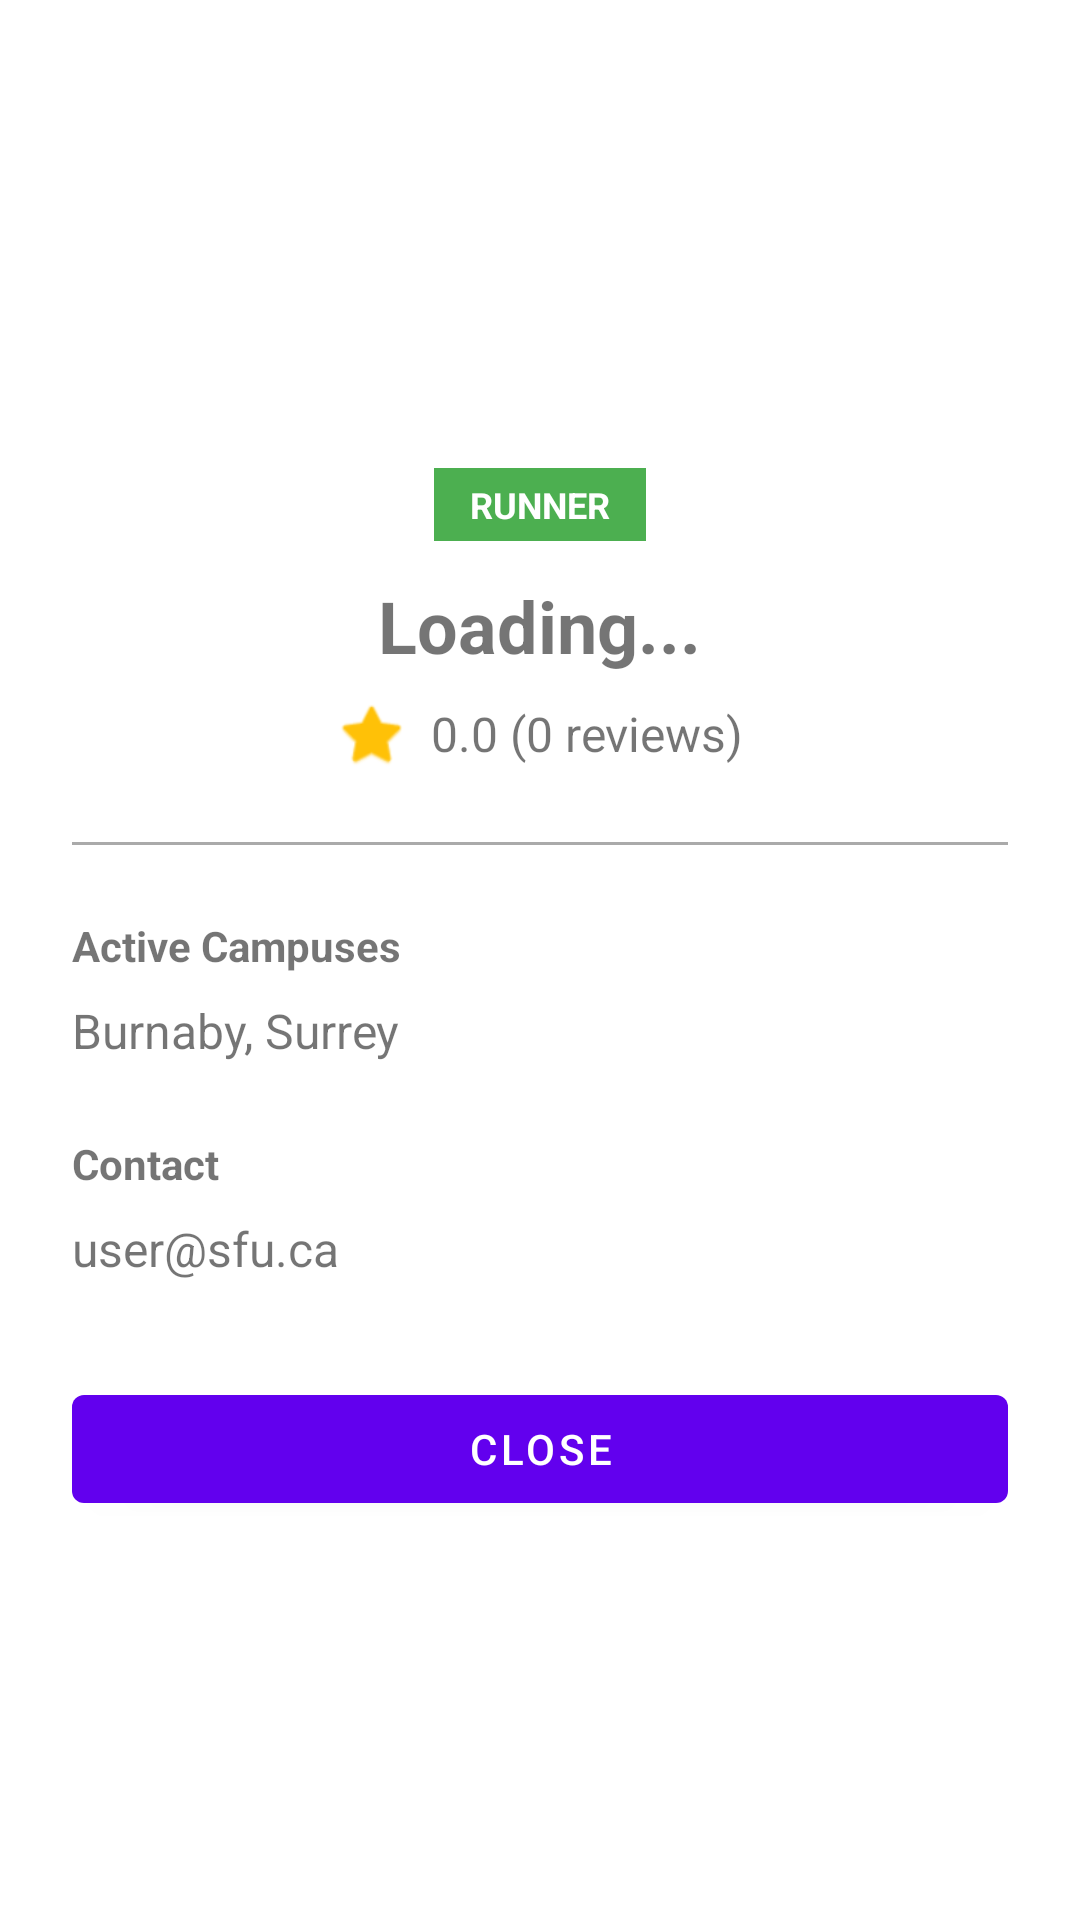

Point at icon controls on the screen. Image size 1080*1920, points as point (x, y).
star on: point (371, 734)
